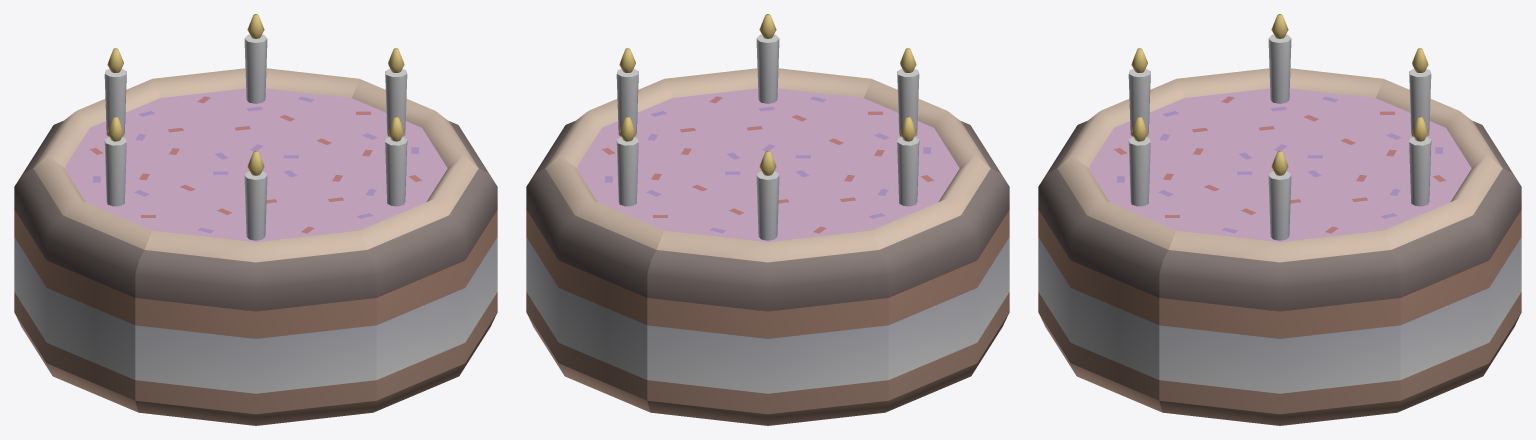
File: cake-birthday.glb
The picture shows the model from 3 angles, left to right: view 1: azimuth 30°, elevation 25°; view 2: azimuth 150°, elevation 25°; view 3: azimuth 270°, elevation 25°; orthographic projection.
Visible parts, largest first — view 1: cake-birthday; view 2: cake-birthday; view 3: cake-birthday.
Part boxes in pixels (x1,y1,x2,y2): cake-birthday: [14, 14, 497, 425]; cake-birthday: [526, 14, 1009, 425]; cake-birthday: [1038, 14, 1521, 425].
Bounding box in the file's own units: 0.6392 × 0.3638 × 0.6392.
